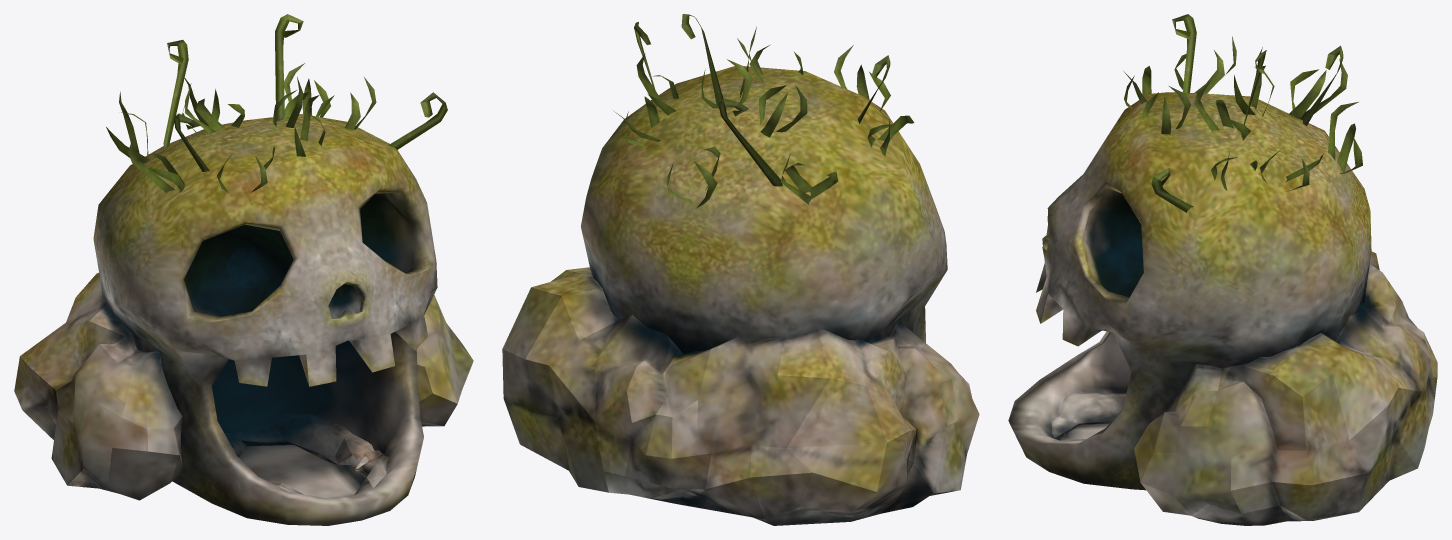
File: Rock_house01.fbx
The picture shows the model from 3 angles, left to right: view 1: azimuth 30°, elevation 25°; view 2: azimuth 150°, elevation 25°; view 3: azimuth 270°, elevation 25°; orthographic projection. The views are drawn at different scales.
Parts seen in each view (by area): view 1: pPlane22; view 2: pPlane22; view 3: pPlane22.
Part boxes in pixels (box(x1,y1,x2,y2)): pPlane22: box(14, 14, 473, 525); pPlane22: box(502, 14, 979, 525); pPlane22: box(1008, 14, 1437, 525).
Bounding box in the file's own units: 2.71 × 2.67 × 2.51.
